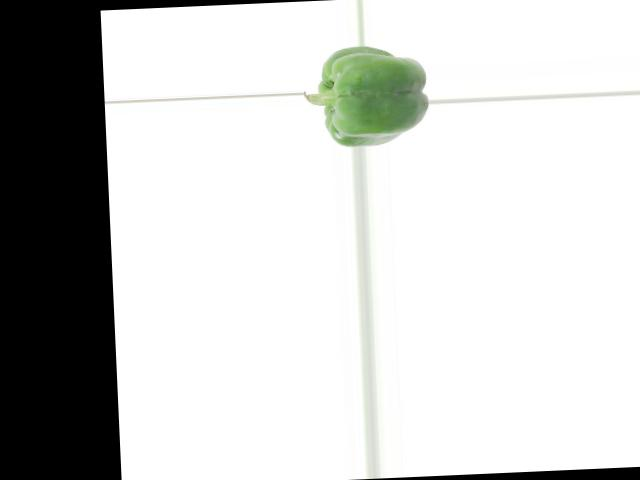bell_pepper: (304, 43, 430, 146)
